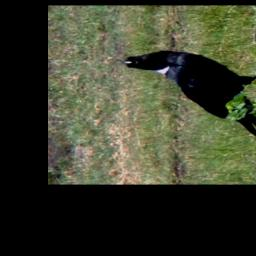Crow: (122, 49, 256, 140)
